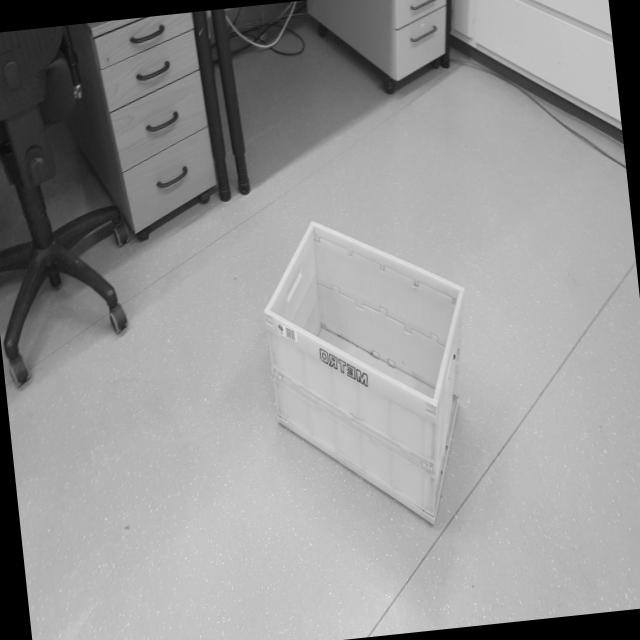box: (225, 183, 510, 556)
